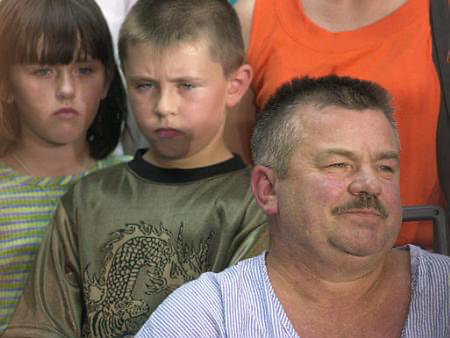Face: (289, 120, 412, 278), (124, 48, 227, 160), (6, 40, 112, 147)
